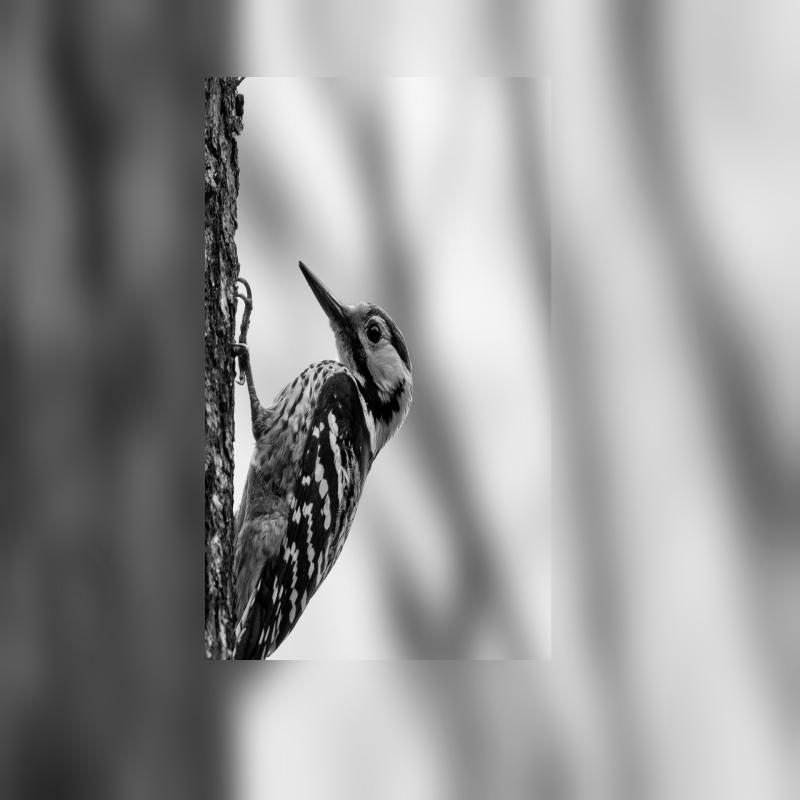white-backed woodpecker: (218, 243, 420, 661)
